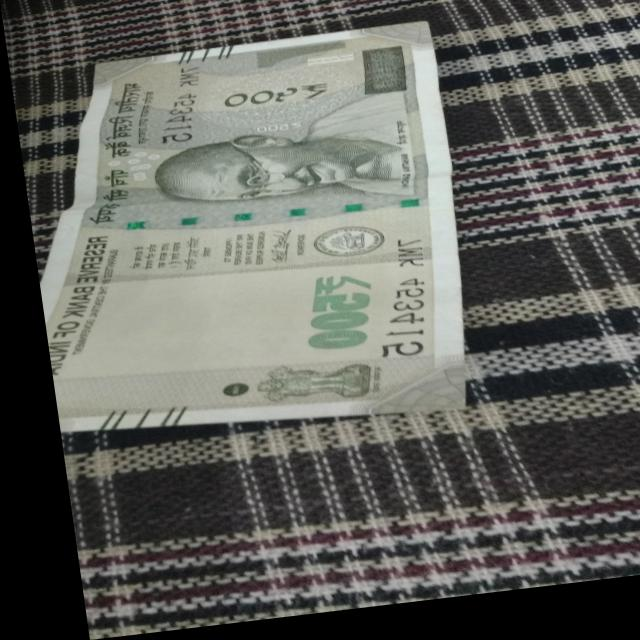Currency: (20, 24, 485, 432)
